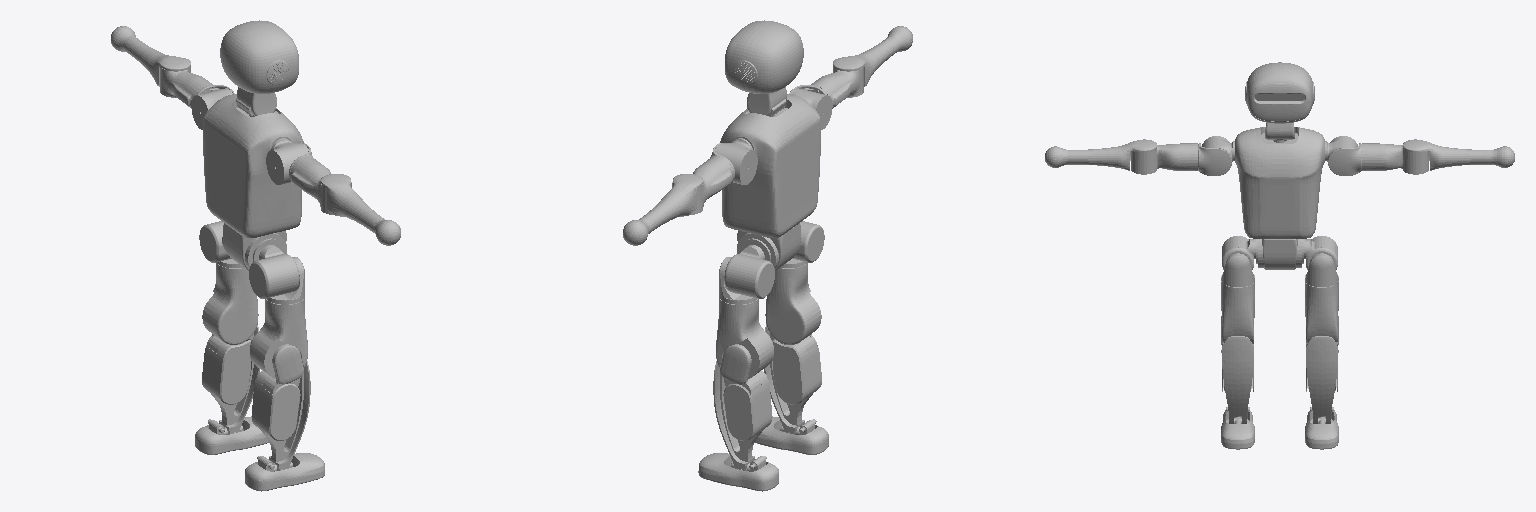
--- What the picture shows (computed from the rendered views, not written in the file) ---
3 views of the same robot in one strip: view 1: azimuth 30°, elevation 25°; view 2: azimuth 150°, elevation 25°; view 3: azimuth 270°, elevation 25° (orthographic).
Robot: K1_URDF_Serial — 23 links, 22 joints (22 revolute); root link Trunk; default pose: all joints at 0.
Links seen in each view (by area): view 1: Trunk, head_pitch_link, Right_Shank, Left_Shank, Left_Hip_Yaw, Right_Hip_Yaw, right_forearm_pitch_link, right_foot_link, Right_Hip_Pitch, left_foot_link, left_forearm_pitch_link, Right_Arm_3 (+5 smaller); view 2: Trunk, head_pitch_link, Left_Shank, Right_Shank, Right_Hip_Yaw, Left_Hip_Yaw, left_forearm_pitch_link, left_foot_link, Left_Hip_Pitch, right_foot_link, right_forearm_pitch_link, Left_Arm_3 (+5 smaller); view 3: Trunk, head_pitch_link, Left_Shank, Right_Shank, left_forearm_pitch_link, right_forearm_pitch_link, Right_Hip_Yaw, Left_Hip_Yaw, Left_Arm_3, Right_Arm_3, left_foot_link, right_foot_link (+6 smaller).
Boxes of the visible links, x1=… form: Trunk: x1=203, y1=94, x2=303, y2=270; head_pitch_link: x1=220, y1=20, x2=298, y2=115; Right_Shank: x1=252, y1=344, x2=310, y2=470; Left_Shank: x1=202, y1=325, x2=259, y2=434; Left_Hip_Yaw: x1=202, y1=263, x2=258, y2=344; Right_Hip_Yaw: x1=250, y1=298, x2=307, y2=378; right_forearm_pitch_link: x1=321, y1=174, x2=400, y2=245; right_foot_link: x1=245, y1=453, x2=324, y2=491; Right_Hip_Pitch: x1=249, y1=246, x2=299, y2=298; left_foot_link: x1=195, y1=416, x2=268, y2=454; left_forearm_pitch_link: x1=111, y1=26, x2=190, y2=86; Right_Arm_3: x1=290, y1=156, x2=351, y2=214; Trunk: x1=720, y1=94, x2=820, y2=270; head_pitch_link: x1=725, y1=20, x2=803, y2=115; Left_Shank: x1=713, y1=344, x2=771, y2=470; Right_Shank: x1=764, y1=325, x2=821, y2=434; Right_Hip_Yaw: x1=765, y1=263, x2=821, y2=344; Left_Hip_Yaw: x1=716, y1=298, x2=773, y2=378; left_forearm_pitch_link: x1=623, y1=174, x2=702, y2=245; left_foot_link: x1=698, y1=453, x2=778, y2=491; Left_Hip_Pitch: x1=724, y1=246, x2=774, y2=298; right_foot_link: x1=755, y1=416, x2=828, y2=454; right_forearm_pitch_link: x1=833, y1=26, x2=912, y2=86; Left_Arm_3: x1=672, y1=156, x2=733, y2=214; Trunk: x1=1235, y1=127, x2=1324, y2=269; head_pitch_link: x1=1245, y1=62, x2=1314, y2=139; Left_Shank: x1=1306, y1=316, x2=1338, y2=423; Right_Shank: x1=1221, y1=316, x2=1253, y2=423; left_forearm_pitch_link: x1=1403, y1=139, x2=1514, y2=170; right_forearm_pitch_link: x1=1045, y1=139, x2=1156, y2=170; Right_Hip_Yaw: x1=1221, y1=281, x2=1254, y2=343; Left_Hip_Yaw: x1=1305, y1=281, x2=1338, y2=343; Left_Arm_3: x1=1362, y1=143, x2=1428, y2=174; Right_Arm_3: x1=1131, y1=143, x2=1197, y2=174; left_foot_link: x1=1305, y1=407, x2=1338, y2=449; right_foot_link: x1=1221, y1=407, x2=1254, y2=449.
Size in the robot's own frame: 0.165 by 1.08 by 0.9282 metres.
Meshes: 23 distinct files referenced, 23 mesh visuals loaded (23 binary STL).

URDF robot description (K1_URDF_Serial):
<?xml version="1.0" encoding="utf-8"?>
<robot
  name="K1_URDF_Serial">
  <link
    name="Trunk">
    <inertial>
      <origin
        xyz="-0.0043392 -0.00065534 0.065686"
        rpy="0 0 0" />
      <mass
        value="6.3921" />
      <inertia
        ixx="0.096159"
        ixy="-0.000039"
        ixz="-0.002091"
        iyy="0.089512"
        iyz="-0.000567"
        izz="0.020187" />
    </inertial>
    <visual>
      <origin
        xyz="0 0 0"
        rpy="0 0 0" />
      <geometry>
        <mesh
          filename="Trunk.STL" />
      </geometry>
      <material
        name="">
        <color
          rgba="0.75294 0.75294 0.75294 0.8" />
      </material>
    </visual>
    <collision>
      <origin
        xyz="0 0 0"
        rpy="0 0 0" />
      <geometry>
        <mesh
          filename="Trunk.STL" />
      </geometry>
    </collision>
  </link>
  <link
    name="Head_1">
    <inertial>
      <origin
        xyz="-0.00069503 -0.00038527 0.031688"
        rpy="0 0 0" />
      <mass
        value="0.29729" />
      <inertia
        ixx="0.000429"
        ixy="-0.000002"
        ixz="-0.000006"
        iyy="0.000421"
        iyz="-0.000005"
        izz="0.000126" />
    </inertial>
    <visual>
      <origin
        xyz="0 0 0"
        rpy="0 0 0" />
      <geometry>
        <mesh
          filename="Head_1.STL" />
      </geometry>
      <material
        name="">
        <color
          rgba="0.75294 0.75294 0.75294 0.8" />
      </material>
    </visual>
    <collision>
      <origin
        xyz="0 0 0"
        rpy="0 0 0" />
      <geometry>
        <mesh
          filename="Head_1.STL" />
      </geometry>
    </collision>
  </link>
  <joint
    name="AAHead_Yaw"
    type="revolute">
    <origin
      xyz="0.0056 0 0.2149"
      rpy="0 0 0" />
    <parent
      link="Trunk" />
    <child
      link="Head_1" />
    <axis
      xyz="0 0 1" />
    <limit
      lower="0"
      upper="0"
      effort="0"
      velocity="0" />
  </joint>
  <link
    name="head_pitch_link">
    <inertial>
      <origin
        xyz="0.011042 -0.00092871 0.080698"
        rpy="0 0 0" />
      <mass
        value="0.61387" />
      <inertia
        ixx="0.005927"
        ixy="-0.000012"
        ixz="0.000664"
        iyy="0.005776"
        iyz="-0.000033"
        izz="0.001807" />
    </inertial>
    <visual>
      <origin
        xyz="0 0 0"
        rpy="0 0 0" />
      <geometry>
        <mesh
          filename="Head_2.STL" />
      </geometry>
      <material
        name="">
        <color
          rgba="0.75294 0.75294 0.75294 0.8" />
      </material>
    </visual>
    <collision>
      <origin
        xyz="0 0 0"
        rpy="0 0 0" />
      <geometry>
        <mesh
          filename="Head_2.STL" />
      </geometry>
    </collision>
  </link>
  <joint
    name="Head_Pitch"
    type="revolute">
    <origin
      xyz="0 0 0.033"
      rpy="0 0 0" />
    <parent
      link="Head_1" />
    <child
      link="head_pitch_link" />
    <axis
      xyz="0 1 0" />
    <limit
      lower="0"
      upper="0"
      effort="0"
      velocity="0" />
  </joint>
  <link
    name="Left_Arm_1">
    <inertial>
      <origin
        xyz="-0.002701 0.062383 -0.011965"
        rpy="0 0 0" />
      <mass
        value="0.45628" />
      <inertia
        ixx="0.002194"
        ixy="-0.000084"
        ixz="0.000017"
        iyy="0.000331"
        iyz="-0.000372"
        izz="0.002139" />
    </inertial>
    <visual>
      <origin
        xyz="0 0 0"
        rpy="0 0 0" />
      <geometry>
        <mesh
          filename="Left_Arm_1.STL" />
      </geometry>
      <material
        name="">
        <color
          rgba="0.75294 0.75294 0.75294 0.8" />
      </material>
    </visual>
    <collision>
      <origin
        xyz="0 0 0"
        rpy="0 0 0" />
      <geometry>
        <mesh
          filename="Left_Arm_1.STL" />
      </geometry>
    </collision>
  </link>
  <joint
    name="ALeft_Shoulder_Pitch"
    type="revolute">
    <origin
      xyz="0 0.077 0.1845"
      rpy="0 0 0" />
    <parent
      link="Trunk" />
    <child
      link="Left_Arm_1" />
    <axis
      xyz="0 1 0" />
    <limit
      lower="0"
      upper="0"
      effort="0"
      velocity="0" />
  </joint>
  <link
    name="Left_Arm_2">
    <inertial>
      <origin
        xyz="0.01729 0.018221 -4.329E-05"
        rpy="0 0 0" />
      <mass
        value="0.084303" />
      <inertia
        ixx="0.000092"
        ixy="0.000009"
        ixz="0.000000"
        iyy="0.000068"
        iyz="0.000000"
        izz="0.000113" />
    </inertial>
    <visual>
      <origin
        xyz="0 0 0"
        rpy="0 0 0" />
      <geometry>
        <mesh
          filename="Left_Arm_2.STL" />
      </geometry>
      <material
        name="">
        <color
          rgba="0.75294 0.75294 0.75294 0.8" />
      </material>
    </visual>
    <collision>
      <origin
        xyz="0 0 0"
        rpy="0 0 0" />
      <geometry>
        <mesh
          filename="Left_Arm_2.STL" />
      </geometry>
    </collision>
  </link>
  <joint
    name="Left_Shoulder_Roll"
    type="revolute">
    <origin
      xyz="0.0025 0.068 -0.0135"
      rpy="0 0 0" />
    <parent
      link="Left_Arm_1" />
    <child
      link="Left_Arm_2" />
    <axis
      xyz="1 0 0" />
    <limit
      lower="0"
      upper="0"
      effort="0"
      velocity="0" />
  </joint>
  <link
    name="Left_Arm_3">
    <inertial>
      <origin
        xyz="-0.0003979 0.072617 -0.00066218"
        rpy="0 0 0" />
      <mass
        value="0.76208" />
      <inertia
        ixx="0.006069"
        ixy="-0.000017"
        ixz="-0.000001"
        iyy="0.000387"
        iyz="-0.000079"
        izz="0.006067" />
    </inertial>
    <visual>
      <origin
        xyz="0 0 0"
        rpy="0 0 0" />
      <geometry>
        <mesh
          filename="Left_Arm_3.STL" />
      </geometry>
      <material
        name="">
        <color
          rgba="0.75294 0.75294 0.75294 0.8" />
      </material>
    </visual>
    <collision>
      <origin
        xyz="0 0 0"
        rpy="0 0 0" />
      <geometry>
        <mesh
          filename="Left_Arm_3.STL" />
      </geometry>
    </collision>
  </link>
  <joint
    name="Left_Elbow_Pitch"
    type="revolute">
    <origin
      xyz="0 0.044428 0"
      rpy="0 0 0" />
    <parent
      link="Left_Arm_2" />
    <child
      link="Left_Arm_3" />
    <axis
      xyz="0 1 0" />
    <limit
      lower="0"
      upper="0"
      effort="0"
      velocity="0" />
  </joint>
  <link
    name="left_forearm_pitch_link">
    <inertial>
      <origin
        xyz="-0.0015751 0.084637 0.0087033"
        rpy="0 0 0" />
      <mass
        value="0.16796" />
      <inertia
        ixx="0.002056"
        ixy="-0.000007"
        ixz="-0.000002"
        iyy="0.000082"
        iyz="0.000031"
        izz="0.002029" />
    </inertial>
    <visual>
      <origin
        xyz="0 0 0"
        rpy="0 0 0" />
      <geometry>
        <mesh
          filename="Left_Arm_4.STL" />
      </geometry>
      <material
        name="">
        <color
          rgba="0.75294 0.75294 0.75294 0.8" />
      </material>
    </visual>
    <collision>
      <origin
        xyz="0 0 0"
        rpy="0 0 0" />
      <geometry>
        <mesh
          filename="Left_Arm_4.STL" />
      </geometry>
    </collision>
  </link>
  <joint
    name="Left_Elbow_Yaw"
    type="revolute">
    <origin
      xyz="0 0.1215 0"
      rpy="0 0 0" />
    <parent
      link="Left_Arm_3" />
    <child
      link="left_forearm_pitch_link" />
    <axis
      xyz="0 0 1" />
    <limit
      lower="0"
      upper="0"
      effort="0"
      velocity="0" />
  </joint>
  <link
    name="Right_Arm_1">
    <inertial>
      <origin
        xyz="-0.0026302 -0.06251 -0.01199"
        rpy="0 0 0" />
      <mass
        value="0.45669" />
      <inertia
        ixx="0.002200"
        ixy="0.000082"
        ixz="0.000017"
        iyy="0.000332"
        iyz="0.000373"
        izz="0.002145" />
    </inertial>
    <visual>
      <origin
        xyz="0 0 0"
        rpy="0 0 0" />
      <geometry>
        <mesh
          filename="Right_Arm_1.STL" />
      </geometry>
      <material
        name="">
        <color
          rgba="0.75294 0.75294 0.75294 0.8" />
      </material>
    </visual>
    <collision>
      <origin
        xyz="0 0 0"
        rpy="0 0 0" />
      <geometry>
        <mesh
          filename="Right_Arm_1.STL" />
      </geometry>
    </collision>
  </link>
  <joint
    name="ARight_Shoulder_Pitch"
    type="revolute">
    <origin
      xyz="0 -0.077 0.1845"
      rpy="0 0 0" />
    <parent
      link="Trunk" />
    <child
      link="Right_Arm_1" />
    <axis
      xyz="0 1 0" />
    <limit
      lower="0"
      upper="0"
      effort="0"
      velocity="0" />
  </joint>
  <link
    name="Right_Arm_2">
    <inertial>
      <origin
        xyz="0.017229 -0.018428 4.3784E-05"
        rpy="0 0 0" />
      <mass
        value="0.083353" />
      <inertia
        ixx="0.000092"
        ixy="-0.000009"
        ixz="0.000000"
        iyy="0.000068"
        iyz="0.000000"
        izz="0.000113" />
    </inertial>
    <visual>
      <origin
        xyz="0 0 0"
        rpy="0 0 0" />
      <geometry>
        <mesh
          filename="Right_Arm_2.STL" />
      </geometry>
      <material
        name="">
        <color
          rgba="0.75294 0.75294 0.75294 0.8" />
      </material>
    </visual>
    <collision>
      <origin
        xyz="0 0 0"
        rpy="0 0 0" />
      <geometry>
        <mesh
          filename="Right_Arm_2.STL" />
      </geometry>
    </collision>
  </link>
  <joint
    name="Right_Shoulder_Roll"
    type="revolute">
    <origin
      xyz="0.0025 -0.068 -0.0135"
      rpy="0 0 0" />
    <parent
      link="Right_Arm_1" />
    <child
      link="Right_Arm_2" />
    <axis
      xyz="1 0 0" />
    <limit
      lower="0"
      upper="0"
      effort="0"
      velocity="0" />
  </joint>
  <link
    name="Right_Arm_3">
    <inertial>
      <origin
        xyz="-0.00039919 -0.072601 -0.00065629"
        rpy="0 0 0" />
      <mass
        value="0.76234" />
      <inertia
        ixx="0.006070"
        ixy="0.000017"
        ixz="-0.000001"
        iyy="0.000388"
        iyz="0.000079"
        izz="0.006068" />
    </inertial>
    <visual>
      <origin
        xyz="0 0 0"
        rpy="0 0 0" />
      <geometry>
        <mesh
          filename="Right_Arm_3.STL" />
      </geometry>
      <material
        name="">
        <color
          rgba="0.75294 0.75294 0.75294 0.8" />
      </material>
    </visual>
    <collision>
      <origin
        xyz="0 0 0"
        rpy="0 0 0" />
      <geometry>
        <mesh
          filename="Right_Arm_3.STL" />
      </geometry>
    </collision>
  </link>
  <joint
    name="Right_Elbow_Pitch"
    type="revolute">
    <origin
      xyz="0 -0.044428 0"
      rpy="0 0 0" />
    <parent
      link="Right_Arm_2" />
    <child
      link="Right_Arm_3" />
    <axis
      xyz="0 1 0" />
    <limit
      lower="0"
      upper="0"
      effort="0"
      velocity="0" />
  </joint>
  <link
    name="right_forearm_pitch_link">
    <inertial>
      <origin
        xyz="-0.0015177 -0.084536 0.0086733"
        rpy="0 0 0" />
      <mass
        value="0.16828" />
      <inertia
        ixx="0.002056"
        ixy="0.000005"
        ixz="-0.000002"
        iyy="0.000082"
        iyz="-0.000031"
        izz="0.002030" />
    </inertial>
    <visual>
      <origin
        xyz="0 0 0"
        rpy="0 0 0" />
      <geometry>
        <mesh
          filename="Right_Arm_4.STL" />
      </geometry>
      <material
        name="">
        <color
          rgba="0.75294 0.75294 0.75294 0.8" />
      </material>
    </visual>
    <collision>
      <origin
        xyz="0 0 0"
        rpy="0 0 0" />
      <geometry>
        <mesh
          filename="Right_Arm_4.STL" />
      </geometry>
    </collision>
  </link>
  <joint
    name="Right_Elbow_Yaw"
    type="revolute">
    <origin
      xyz="0 -0.1215 0"
      rpy="0 0 0" />
    <parent
      link="Right_Arm_3" />
    <child
      link="right_forearm_pitch_link" />
    <axis
      xyz="0 0 1" />
    <limit
      lower="0"
      upper="0"
      effort="0"
      velocity="0" />
  </joint>
  <link
    name="Left_Hip_Pitch">
    <inertial>
      <origin
        xyz="-0.010093 -0.0019934 -0.024713"
        rpy="0 0 0" />
      <mass
        value="0.64068" />
      <inertia
        ixx="0.000781"
        ixy="0.000004"
        ixz="0.000167"
        iyy="0.000987"
        iyz="0.000008"
        izz="0.000604" />
    </inertial>
    <visual>
      <origin
        xyz="0 0 0"
        rpy="0 0 0" />
      <geometry>
        <mesh
          filename="Left_Hip_Pitch.STL" />
      </geometry>
      <material
        name="">
        <color
          rgba="0.75294 0.75294 0.75294 0.8" />
      </material>
    </visual>
    <collision>
      <origin
        xyz="0 0 0"
        rpy="0 0 0" />
      <geometry>
        <mesh
          filename="Left_Hip_Pitch.STL" />
      </geometry>
    </collision>
  </link>
  <joint
    name="Left_Hip_Pitch"
    type="revolute">
    <origin
      xyz="0 0.096 -0.062"
      rpy="0 0 0" />
    <parent
      link="Trunk" />
    <child
      link="Left_Hip_Pitch" />
    <axis
      xyz="0 1 0" />
    <limit
      lower="0"
      upper="0"
      effort="0"
      velocity="0" />
  </joint>
  <link
    name="Left_Hip_Roll">
    <inertial>
      <origin
        xyz="0.023585 0.000049 -0.024996"
        rpy="0 0 0" />
      <mass
        value="0.127825" />
      <inertia
        ixx="0.000191"
        ixy="0.000000"
        ixz="-0.000048"
        iyy="0.000262"
        iyz="0.000000"
        izz="0.000150" />
    </inertial>
    <visual>
      <origin
        xyz="0 0 0"
        rpy="0 0 0" />
      <geometry>
        <mesh
          filename="Left_Hip_Roll.STL" />
      </geometry>
      <material
        name="">
        <color
          rgba="0.75294 0.75294 0.75294 0.8" />
      </material>
    </visual>
    <collision>
      <origin
        xyz="0 0 0"
        rpy="0 0 0" />
      <geometry>
        <mesh
          filename="Left_Hip_Roll.STL" />
      </geometry>
    </collision>
  </link>
  <joint
    name="Left_Hip_Roll"
    type="revolute">
    <origin
      xyz="0 0 -0.026"
      rpy="0 0 0" />
    <parent
      link="Left_Hip_Pitch" />
    <child
      link="Left_Hip_Roll" />
    <axis
      xyz="1 0 0" />
    <limit
      lower="0"
      upper="0"
      effort="0"
      velocity="0" />
  </joint>
  <link
    name="Left_Hip_Yaw">
    <inertial>
      <origin
        xyz="-0.0084744 -0.0040494 -0.087906"
        rpy="0 0 0" />
      <mass
        value="1.5591" />
      <inertia
        ixx="0.015786"
        ixy="0.000096"
        ixz="0.001546"
        iyy="0.016140"
        iyz="0.000745"
        izz="0.001551" />
    </inertial>
    <visual>
      <origin
        xyz="0 0 0"
        rpy="0 0 0" />
      <geometry>
        <mesh
          filename="Left_Hip_Yaw.STL" />
      </geometry>
      <material
        name="">
        <color
          rgba="0.75294 0.75294 0.75294 0.8" />
      </material>
    </visual>
    <collision>
      <origin
        xyz="0 0 0"
        rpy="0 0 0" />
      <geometry>
        <mesh
          filename="Left_Hip_Yaw.STL" />
      </geometry>
    </collision>
  </link>
  <joint
    name="Left_Hip_Yaw"
    type="revolute">
    <origin
      xyz="0.012 0 -0.0485"
      rpy="0 0 0" />
    <parent
      link="Left_Hip_Roll" />
    <child
      link="Left_Hip_Yaw" />
    <axis
      xyz="0 0 1" />
    <limit
      lower="0"
      upper="0"
      effort="0"
      velocity="0" />
  </joint>
  <link
    name="Left_Shank">
    <inertial>
      <origin
        xyz="-0.00081083 0.0031459 -0.10922"
        rpy="0 0 0" />
      <mass
        value="1.483334" />
      <inertia
        ixx="0.023681"
        ixy="0.000035"
        ixz="0.000222"
        iyy="0.023670"
        iyz="-0.000105"
        izz="0.001240" />
    </inertial>
    <visual>
      <origin
        xyz="0 0 0"
        rpy="0 0 0" />
      <geometry>
        <mesh
          filename="Left_Shank.STL" />
      </geometry>
      <material
        name="">
        <color
          rgba="0.75294 0.75294 0.75294 0.8" />
      </material>
    </visual>
    <collision>
      <origin
        xyz="0 0 0"
        rpy="0 0 0" />
      <geometry>
        <mesh
          filename="Left_Shank.STL" />
      </geometry>
    </collision>
  </link>
  <joint
    name="Left_Knee_Pitch"
    type="revolute">
    <origin
      xyz="-0.014 0 -0.117"
      rpy="0 0 0" />
    <parent
      link="Left_Hip_Yaw" />
    <child
      link="Left_Shank" />
    <axis
      xyz="0 1 0" />
    <limit
      lower="0"
      upper="0"
      effort="0"
      velocity="0" />
  </joint>
  <link
    name="Left_Ankle_Cross">
    <inertial>
      <origin
        xyz="0.000000 0.000000 0.000000"
        rpy="0 0 0" />
      <mass
        value="0.038836" />
      <inertia
        ixx="0.000002"
        ixy="0.000000"
        ixz="0.000000"
        iyy="0.000004"
        iyz="0.000000"
        izz="0.000004" />
    </inertial>
    <visual>
      <origin
        xyz="0 0 0"
        rpy="0 0 0" />
      <geometry>
        <mesh
          filename="Left_Ankle_Cross.STL" />
      </geometry>
      <material
        name="">
        <color
          rgba="0.75294 0.75294 0.75294 0.8" />
      </material>
    </visual>
    <collision>
      <origin
        xyz="0 0 0"
        rpy="0 0 0" />
      <geometry>
        <mesh
          filename="Left_Ankle_Cross.STL" />
      </geometry>
    </collision>
  </link>
  <joint
    name="Left_Ankle_Pitch"
    type="revolute">
    <origin
      xyz="0.00019706 0.0002 -0.24519"
      rpy="0 0 0" />
    <parent
      link="Left_Shank" />
    <child
      link="Left_Ankle_Cross" />
    <axis
      xyz="0 1 0" />
    <limit
      lower="0"
      upper="0"
      effort="0"
      velocity="0" />
  </joint>
  <link
    name="left_foot_link">
    <inertial>
      <origin
        xyz="7.3589E-05 -4.1141E-06 -0.0075032"
        rpy="0 0 0" />
      <mass
        value="0.38305" />
      <inertia
        ixx="0.000202"
        ixy="0.000000"
        ixz="-0.000053"
        iyy="0.000741"
        iyz="0.000000"
        izz="0.000785" />
    </inertial>
    <visual>
      <origin
        xyz="0 0 0"
        rpy="0 0 0" />
      <geometry>
        <mesh
          filename="Left_Foot.STL" />
      </geometry>
      <material
        name="">
        <color
          rgba="0.75294 0.75294 0.75294 0.8" />
      </material>
    </visual>
    <collision>
      <origin
        xyz="0 0 0"
        rpy="0 0 0" />
      <geometry>
        <mesh
          filename="Left_Foot.STL" />
      </geometry>
    </collision>
  </link>
  <joint
    name="Left_Ankle_Roll"
    type="revolute">
    <origin
      xyz="0 0 0"
      rpy="0 0 0" />
    <parent
      link="Left_Ankle_Cross" />
    <child
      link="left_foot_link" />
    <axis
      xyz="1 0 0" />
    <limit
      lower="0"
      upper="0"
      effort="0"
      velocity="0" />
  </joint>
  

  <link
    name="Right_Hip_Pitch">
    <inertial>
      <origin
        xyz="-0.010065 0.0020086 -0.024739"
        rpy="0 0 0" />
      <mass
        value="0.6413" />
      <inertia
        ixx="0.000782"
        ixy="-0.000004"
        ixz="0.000166"
        iyy="0.000988"
        iyz="-0.000009"
        izz="0.000604" />
    </inertial>
    <visual>
      <origin
        xyz="0 0 0"
        rpy="0 0 0" />
      <geometry>
        <mesh
          filename="Right_Hip_Pitch.STL" />
      </geometry>
      <material
        name="">
        <color
          rgba="0.75294 0.75294 0.75294 0.8" />
      </material>
    </visual>
    <collision>
      <origin
        xyz="0 0 0"
        rpy="0 0 0" />
      <geometry>
        <mesh
          filename="Right_Hip_Pitch.STL" />
      </geometry>
    </collision>
  </link>
  <joint
    name="Right_Hip_Pitch"
    type="revolute">
    <origin
      xyz="0 -0.096 -0.062"
      rpy="0 0 0" />
    <parent
      link="Trunk" />
    <child
      link="Right_Hip_Pitch" />
    <axis
      xyz="0 1 0" />
    <limit
      lower="0"
      upper="0"
      effort="0"
      velocity="0" />
  </joint>
  <link
    name="Right_Hip_Roll">
    <inertial>
      <origin
        xyz="0.023585 0.000049 -0.024996"
        rpy="0 0 0" />
      <mass
        value="0.127825" />
      <inertia
        ixx="0.000191"
        ixy="0.000000"
        ixz="-0.000048"
        iyy="0.000262"
        iyz="0.000000"
        izz="0.000150" />
    </inertial>
    <visual>
      <origin
        xyz="0 0 0"
        rpy="0 0 0" />
      <geometry>
        <mesh
          filename="Right_Hip_Roll.STL" />
      </geometry>
      <material
        name="">
        <color
          rgba="0.75294 0.75294 0.75294 0.8" />
      </material>
    </visual>
    <collision>
      <origin
        xyz="0 0 0"
        rpy="0 0 0" />
      <geometry>
        <mesh
          filename="Right_Hip_Roll.STL" />
      </geometry>
    </collision>
  </link>
  <joint
    name="Right_Hip_Roll"
    type="revolute">
    <origin
      xyz="0 0 -0.026"
      rpy="0 0 0" />
    <parent
      link="Right_Hip_Pitch" />
    <child
      link="Right_Hip_Roll" />
    <axis
      xyz="1 0 0" />
    <limit
      lower="0"
      upper="0"
      effort="0"
      velocity="0" />
  </joint>
  <link
    name="Right_Hip_Yaw">
    <inertial>
      <origin
        xyz="-0.008475 0.0040392 -0.087906"
        rpy="0 0 0" />
      <mass
        value="1.5592" />
      <inertia
        ixx="0.015786"
        ixy="-0.000096"
        ixz="0.001546"
        iyy="0.016140"
        iyz="-0.000745"
        izz="0.001551" />
    </inertial>
    <visual>
      <origin
        xyz="0 0 0"
        rpy="0 0 0" />
      <geometry>
        <mesh
          filename="Right_Hip_Yaw.STL" />
      </geometry>
      <material
        name="">
        <color
          rgba="0.75294 0.75294 0.75294 0.8" />
      </material>
    </visual>
    <collision>
      <origin
        xyz="0 0 0"
        rpy="0 0 0" />
      <geometry>
        <mesh
          filename="Right_Hip_Yaw.STL" />
      </geometry>
    </collision>
  </link>
  <joint
    name="Right_Hip_Yaw"
    type="revolute">
    <origin
      xyz="0.012 0 -0.0485"
      rpy="0 0 0" />
    <parent
      link="Right_Hip_Roll" />
    <child
      link="Right_Hip_Yaw" />
    <axis
      xyz="0 0 1" />
    <limit
      lower="0"
      upper="0"
      effort="0"
      velocity="0" />
  </joint>
  <link
    name="Right_Shank">
    <inertial>
      <origin
        xyz="-0.000805 -0.003146 -0.109215"
        rpy="0 0 0" />
      <mass
        value="1.483338" />
      <inertia
        ixx="0.023681"
        ixy="-0.000035"
        ixz="0.000221"
        iyy="0.023670"
        iyz="0.000105"
        izz="0.001240" />
    </inertial>
    <visual>
      <origin
        xyz="0 0 0"
        rpy="0 0 0" />
      <geometry>
        <mesh
          filename="Right_Shank.STL" />
      </geometry>
      <material
        name="">
        <color
          rgba="0.75294 0.75294 0.75294 0.8" />
      </material>
    </visual>
    <collision>
      <origin
        xyz="0 0 0"
        rpy="0 0 0" />
      <geometry>
        <mesh
          filename="Right_Shank.STL" />
      </geometry>
    </collision>
  </link>
  <joint
    name="Right_Knee_Pitch"
    type="revolute">
    <origin
      xyz="-0.014 0 -0.117"
      rpy="0 0 0" />
    <parent
      link="Right_Hip_Yaw" />
    <child
      link="Right_Shank" />
    <axis
      xyz="0 1 0" />
    <limit
      lower="0"
      upper="0"
      effort="0"
      velocity="0" />
  </joint>
  <link
    name="Right_Ankle_Cross">
    <inertial>
      <origin
        xyz="0.000000 0.000000 0.000000"
        rpy="0 0 0" />
      <mass
        value="0.038836" />
      <inertia
        ixx="0.000002"
        ixy="0.000000"
        ixz="0.000000"
        iyy="0.000004"
        iyz="0.000000"
        izz="0.000004" />
    </inertial>
    <visual>
      <origin
        xyz="0 0 0"
        rpy="0 0 0" />
      <geometry>
        <mesh
          filename="Right_Ankle_Cross.STL" />
      </geometry>
      <material
        name="">
        <color
          rgba="0.75294 0.75294 0.75294 0.8" />
      </material>
    </visual>
    <collision>
      <origin
        xyz="0 0 0"
        rpy="0 0 0" />
      <geometry>
        <mesh
          filename="Right_Ankle_Cross.STL" />
      </geometry>
    </collision>
  </link>
  <joint
    name="Right_Ankle_Pitch"
    type="revolute">
    <origin
      xyz="0.00019706 -0.0002 -0.24519"
      rpy="0 0 0" />
    <parent
      link="Right_Shank" />
    <child
      link="Right_Ankle_Cross" />
    <axis
      xyz="0 1 0" />
    <limit
      lower="0"
      upper="0"
      effort="0"
      velocity="0" />
  </joint>
  <link
    name="right_foot_link">
    <inertial>
      <origin
        xyz="-0.000178 -0.000002 -0.007291"
        rpy="0 0 0" />
      <mass
        value="0.386370" />
      <inertia
        ixx="0.000205"
        ixy="0.000000"
        ixz="-0.000054"
        iyy="0.000745"
        iyz="0.000000"
        izz="0.000790" />
    </inertial>
    <visual>
      <origin
        xyz="0 0 0"
        rpy="0 0 0" />
      <geometry>
        <mesh
          filename="Right_Foot.STL" />
      </geometry>
      <material
        name="">
        <color
          rgba="0.75294 0.75294 0.75294 0.8" />
      </material>
    </visual>
    <collision>
      <origin
        xyz="0 0 0"
        rpy="0 0 0" />
      <geometry>
        <mesh
          filename="Right_Foot.STL" />
      </geometry>
    </collision>
  </link>
  <joint
    name="Right_Ankle_Roll"
    type="revolute">
    <origin
      xyz="0 0 0"
      rpy="0 0 0" />
    <parent
      link="Right_Ankle_Cross" />
    <child
      link="right_foot_link" />
    <axis
      xyz="1 0 0" />
    <limit
      lower="0"
      upper="0"
      effort="0"
      velocity="0" />
  </joint>
 
</robot>
